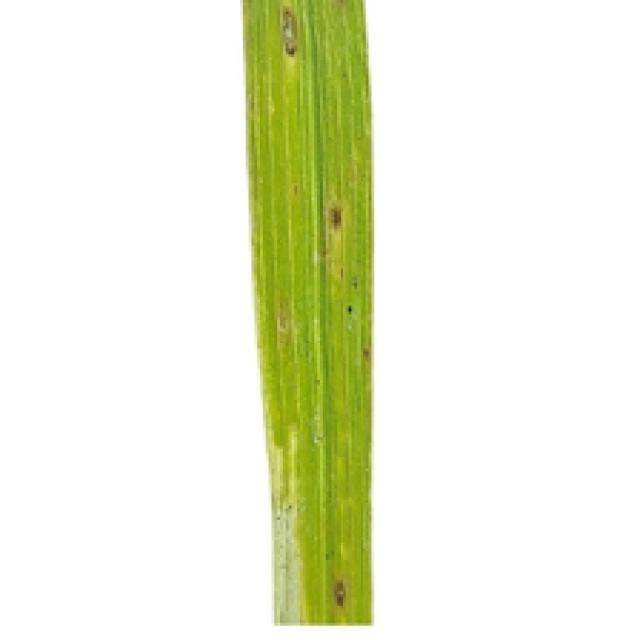Rice___Rice_Blast: (242, 0, 376, 625)
